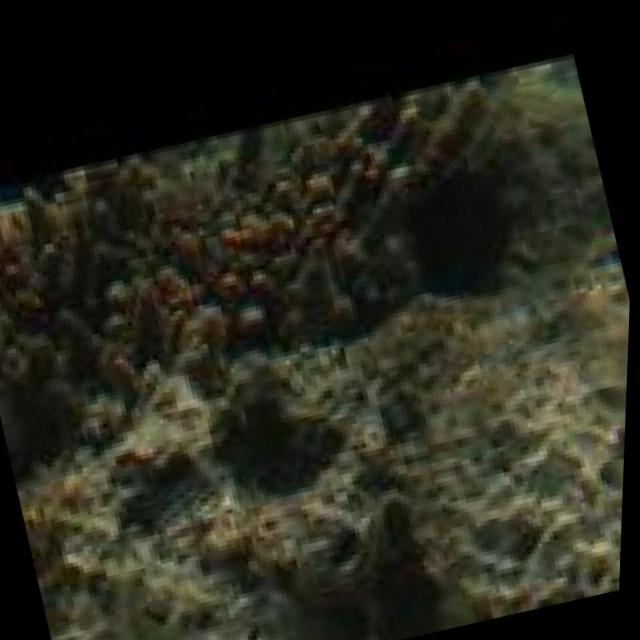Dead Coral: (0, 57, 584, 437)
